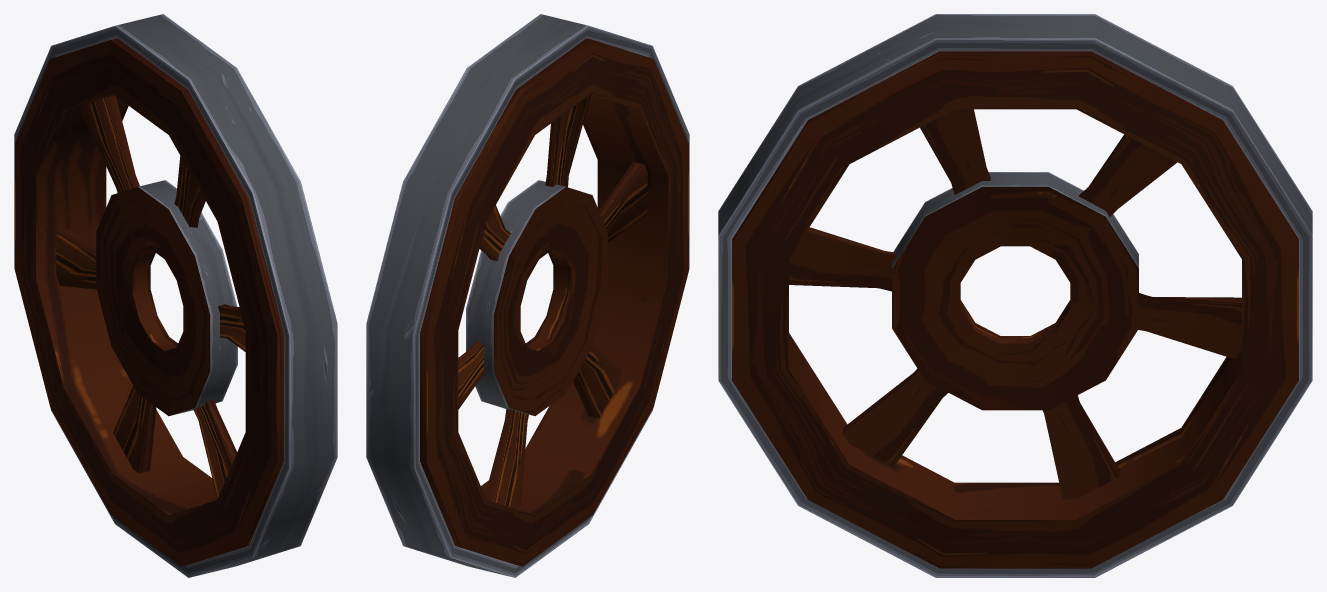
The model's file is SM_PROP_cart_wheel_small.fbx.
3 views of the same model, side by side, from view 1: azimuth 30°, elevation 25°; view 2: azimuth 150°, elevation 25°; view 3: azimuth 270°, elevation 25° (orthographic). The views are drawn at different scales.
Parts seen in each view (by area): view 1: SM_PROP_cart_wheel_small; view 2: SM_PROP_cart_wheel_small; view 3: SM_PROP_cart_wheel_small.
Boxes of the visible parts, x1,y1,x2,y2 form: SM_PROP_cart_wheel_small: (14, 14, 337, 577); SM_PROP_cart_wheel_small: (366, 14, 689, 577); SM_PROP_cart_wheel_small: (718, 14, 1312, 577).
Bounding box in the file's own units: 9.7 × 65.62 × 65.62.
